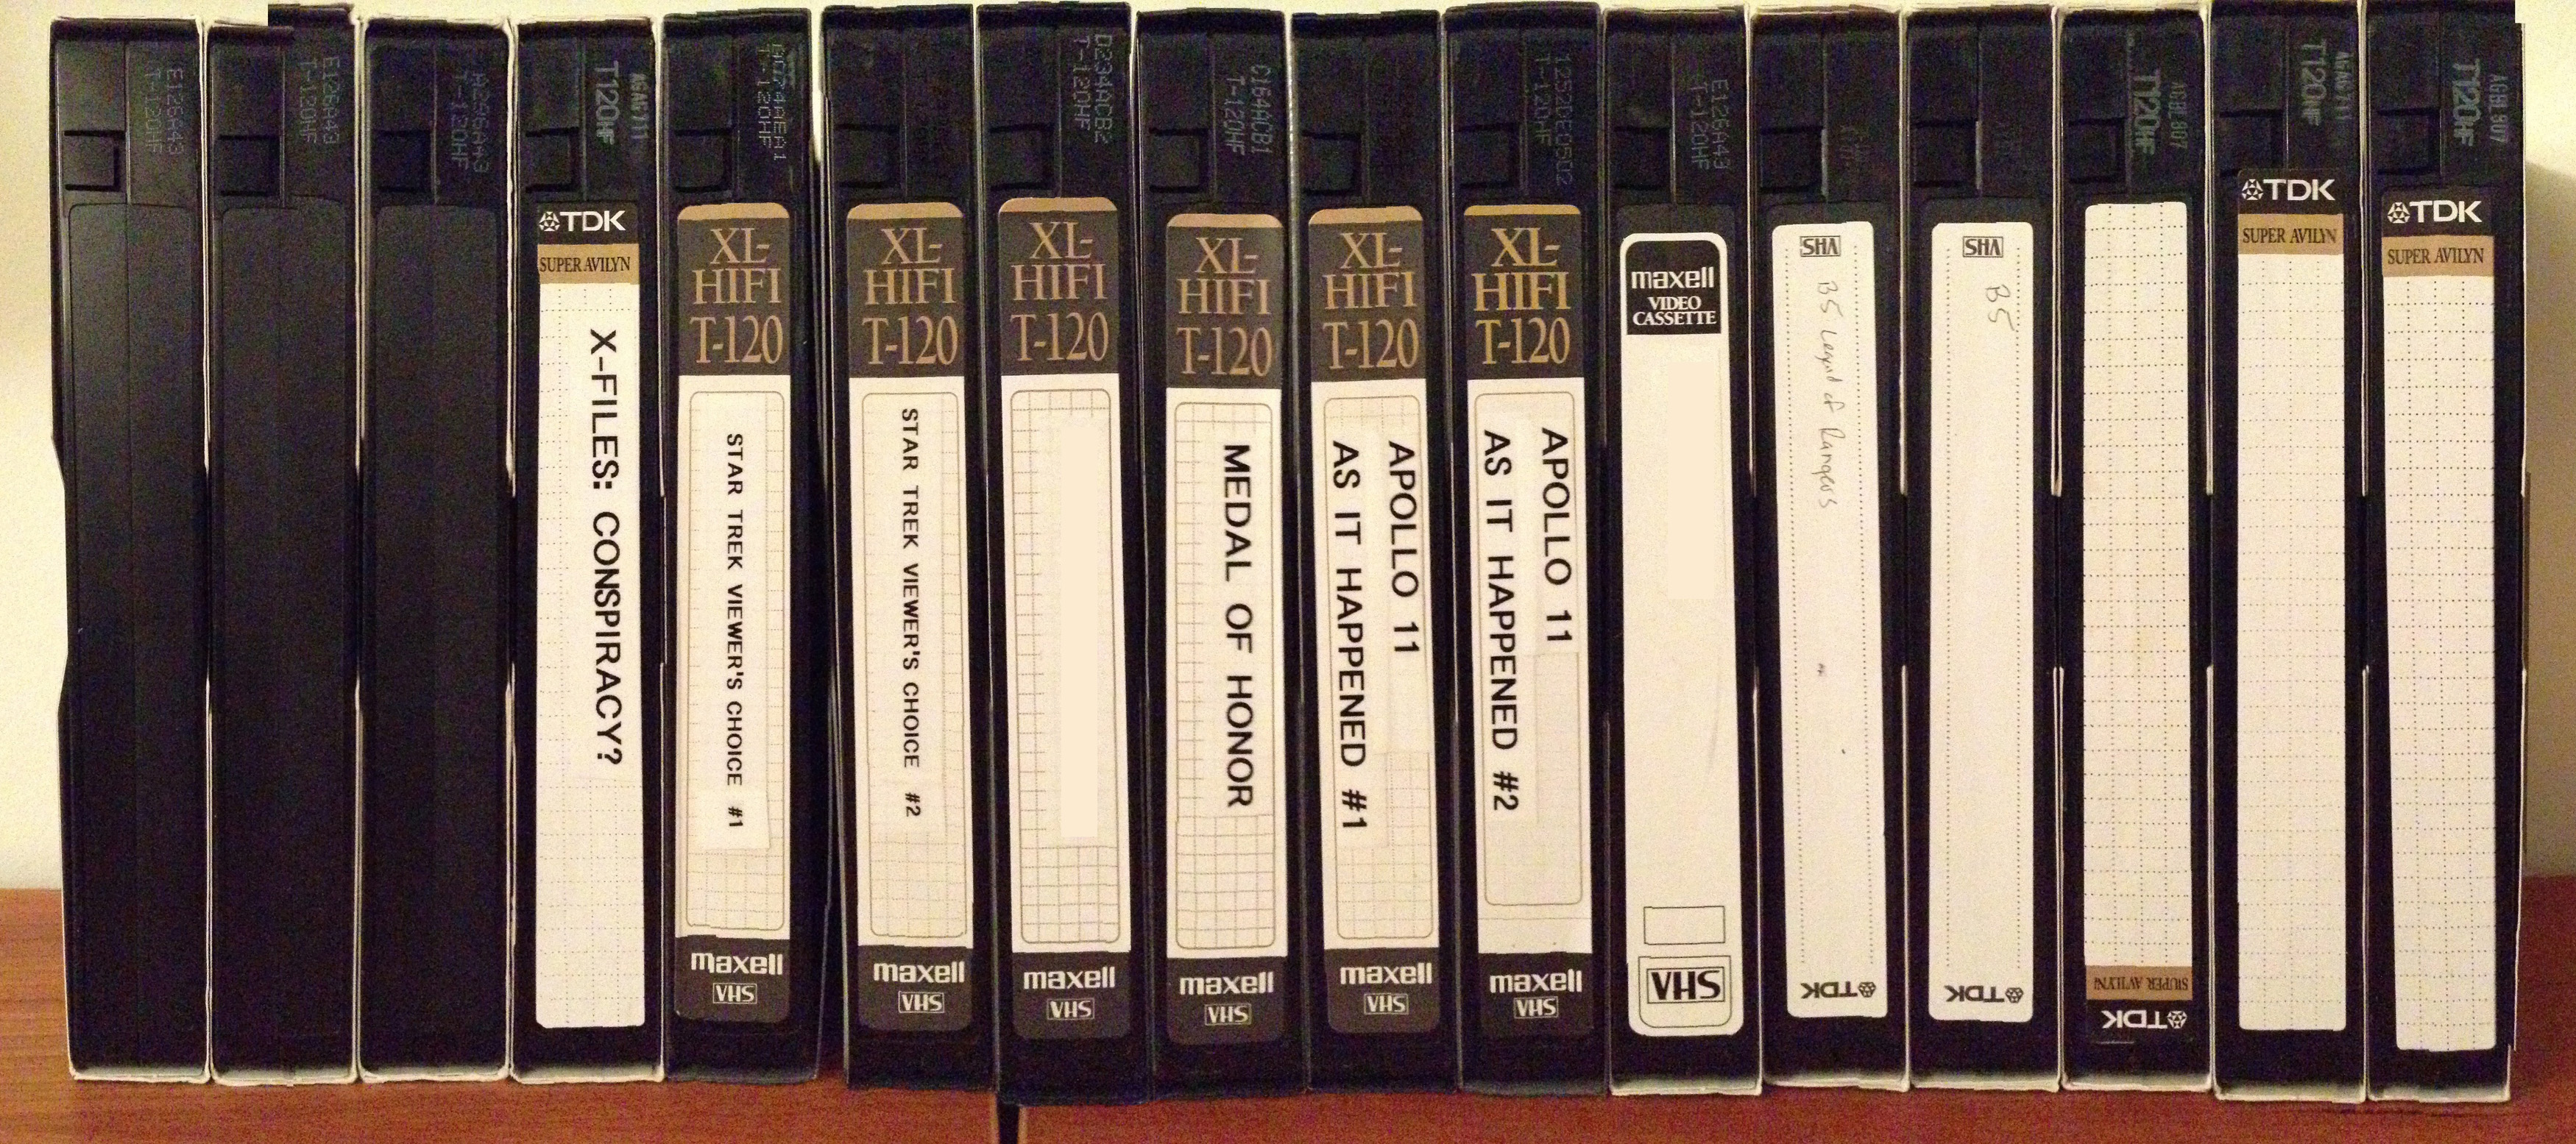Nonrec_Other: (23, 0, 2561, 1116)
